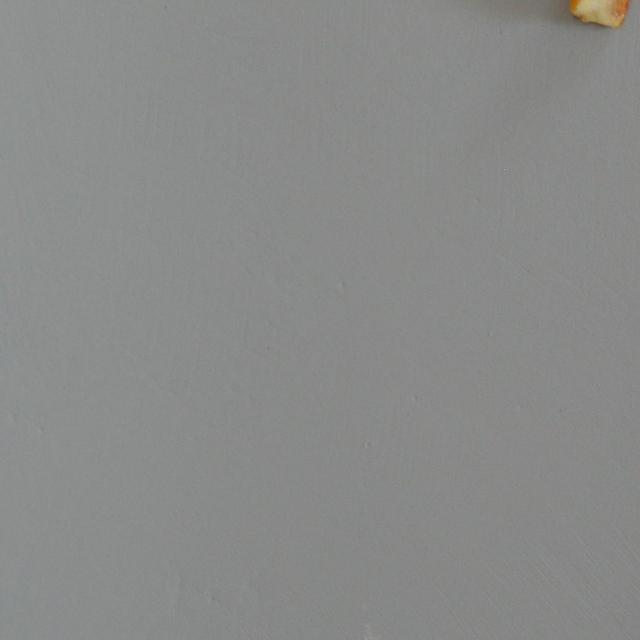dañado: (566, 0, 640, 32)
